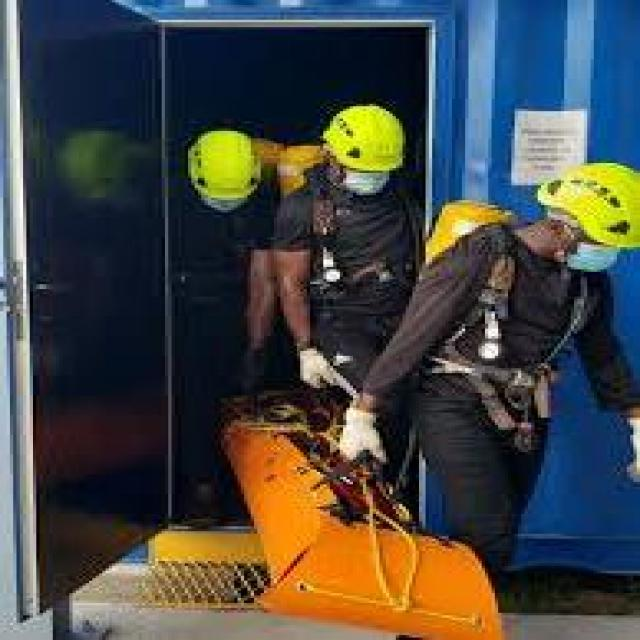Reflective-Jacket: (389, 190, 528, 279)
Safety-Helmet: (524, 155, 640, 257), (307, 99, 419, 180), (172, 121, 270, 210)
